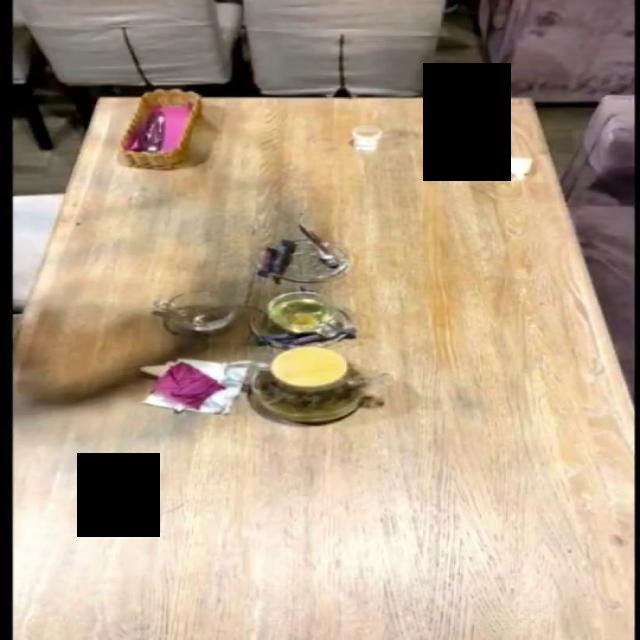tea: (202, 345, 377, 414)
